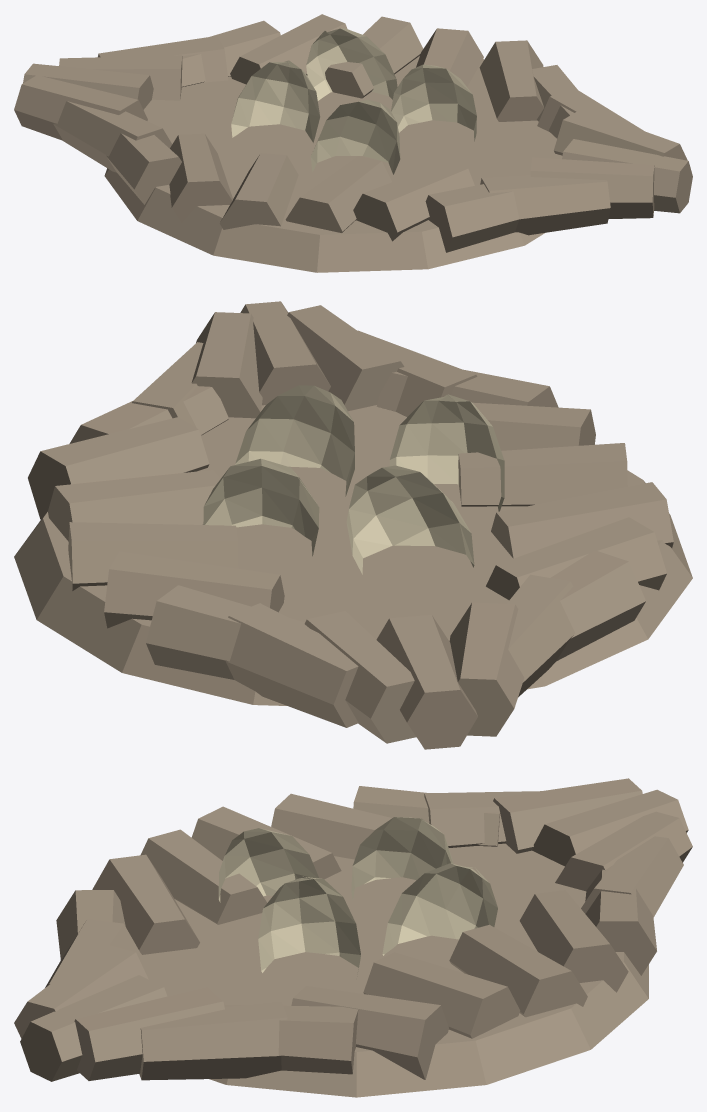
The model's file is dragons-and-wyverns-dragon-nest-of-eggs-cd410a18__36738.glb.
3 views of the same model, one above another, from view 1: azimuth 30°, elevation 25°; view 2: azimuth 150°, elevation 25°; view 3: azimuth 270°, elevation 25° (orthographic). The views are drawn at different scales.
Parts seen in each view (by area): view 1: dragon-nest-of-eggs; view 2: dragon-nest-of-eggs; view 3: dragon-nest-of-eggs.
Boxes of the visible parts, <box> form: dragon-nest-of-eggs: <box>14,14,692,272</box>; dragon-nest-of-eggs: <box>14,301,692,749</box>; dragon-nest-of-eggs: <box>14,778,692,1097</box>.
Size of the model in its own units: 1.96 by 0.4481 by 2.13.
